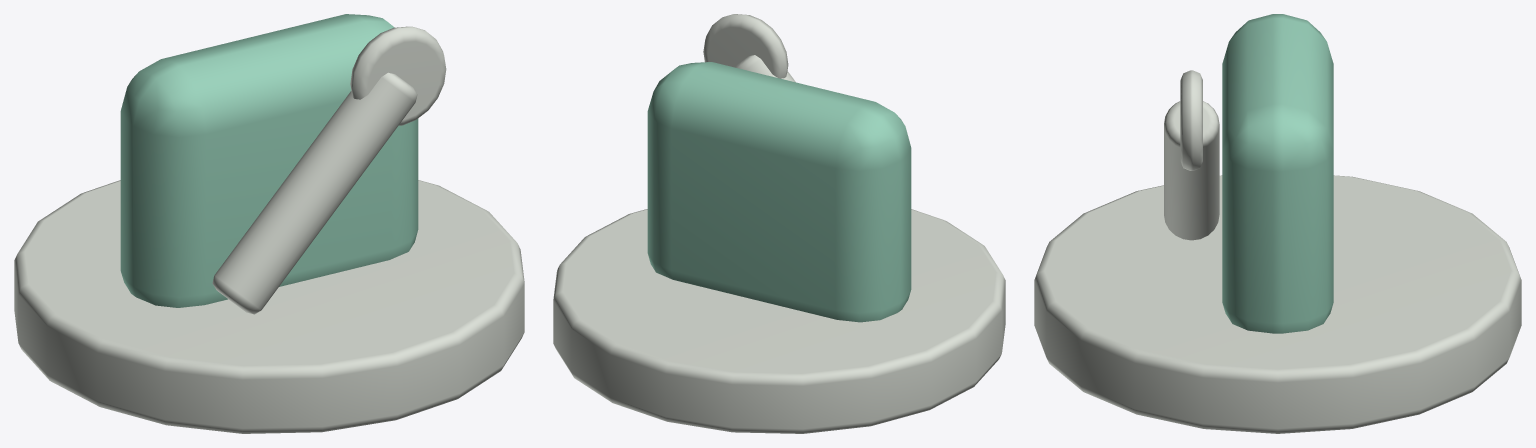
File: bonus_vehicle_repair.glb
3 renders of one model, left to right at view 1: azimuth 30°, elevation 25°; view 2: azimuth 150°, elevation 25°; view 3: azimuth 270°, elevation 25°, orthographic. The views are drawn at different scales.
Parts seen in each view (by area): view 1: Bonus_rounded_plinth003, Armor_patch, Repair_wrench, Wrench_head; view 2: Bonus_rounded_plinth003, Armor_patch, Wrench_head, Repair_wrench; view 3: Bonus_rounded_plinth003, Armor_patch, Repair_wrench, Wrench_head.
Boxes of the visible parts, <box> form: Bonus_rounded_plinth003: <box>14,180,524,433</box>; Armor_patch: <box>120,14,418,307</box>; Repair_wrench: <box>212,72,417,314</box>; Wrench_head: <box>350,26,446,125</box>; Bonus_rounded_plinth003: <box>553,209,1005,433</box>; Armor_patch: <box>647,62,911,322</box>; Wrench_head: <box>703,14,788,78</box>; Repair_wrench: <box>734,55,795,82</box>; Bonus_rounded_plinth003: <box>1034,175,1521,433</box>; Armor_patch: <box>1222,14,1333,333</box>; Repair_wrench: <box>1164,101,1219,240</box>; Wrench_head: <box>1180,70,1202,170</box>.
Size of the model in its own units: 0.96 by 0.65 by 0.96.
